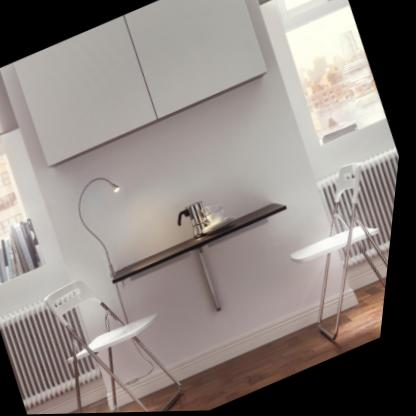Chair: (30, 248, 214, 415), (258, 154, 403, 352)
